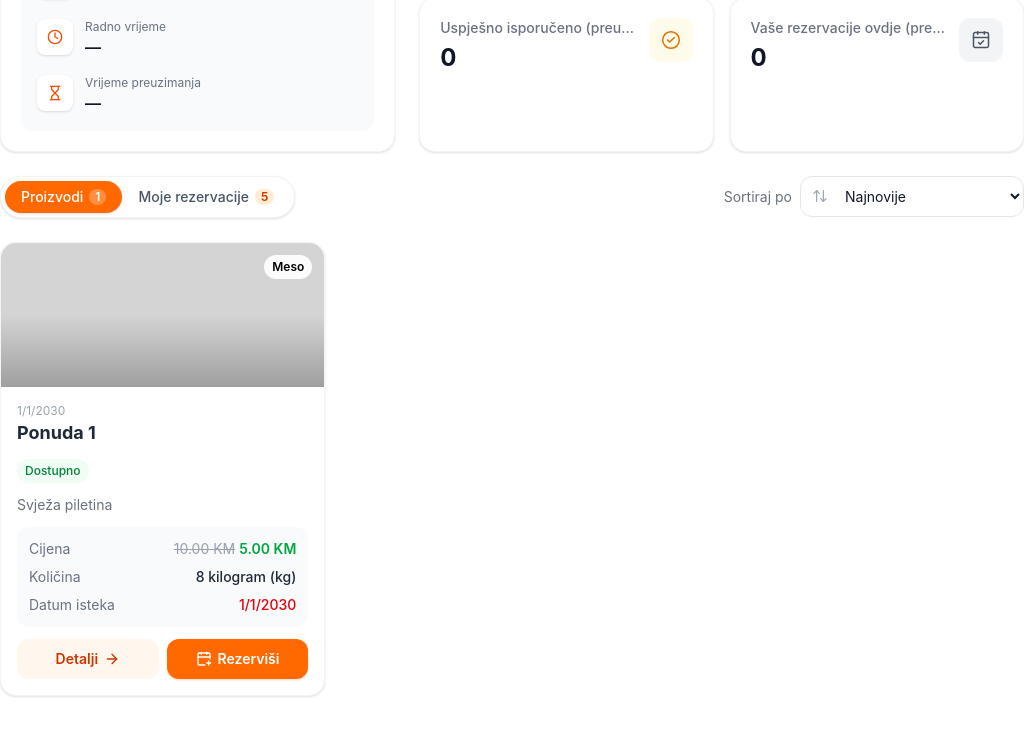
StoreDetailsPage reservations tab count › updates the total after a new reservation
The image size is (1024, 736).
(page scrolled)
Check: the button "Moje rezervacije 5" is shown, box [122, 181, 290, 213]
Click the button "Rezerviši": (238, 659) [167, 639, 308, 679]
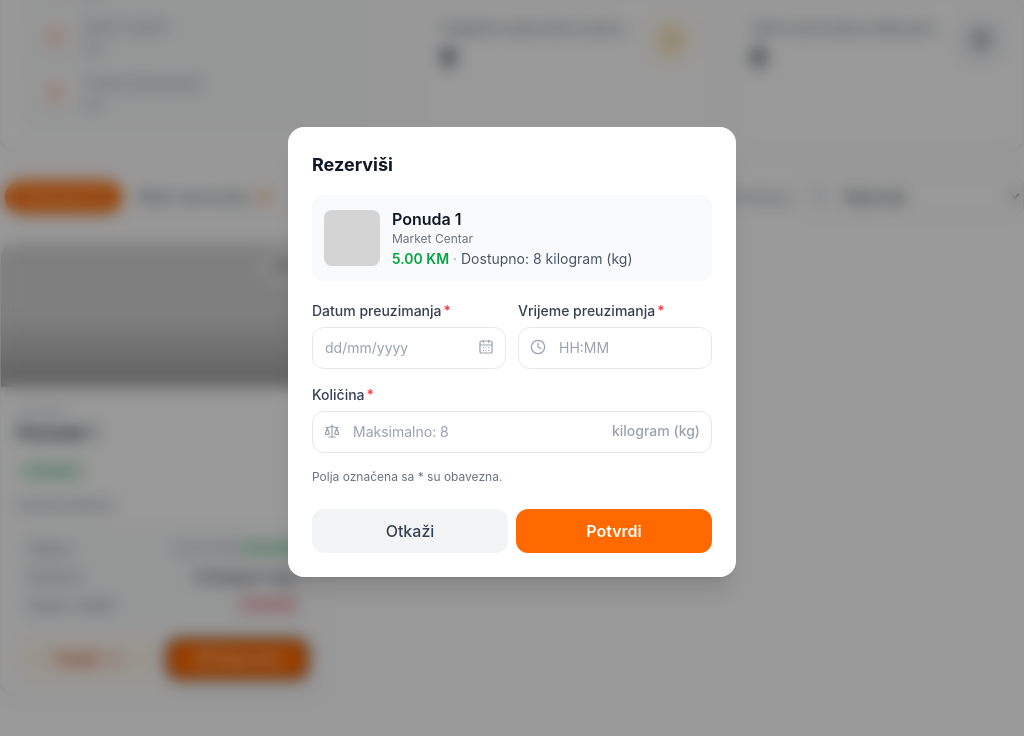
In the field labelled "Datum preuzimanja": (409, 348) [312, 327, 506, 369], type "01/01/2030"
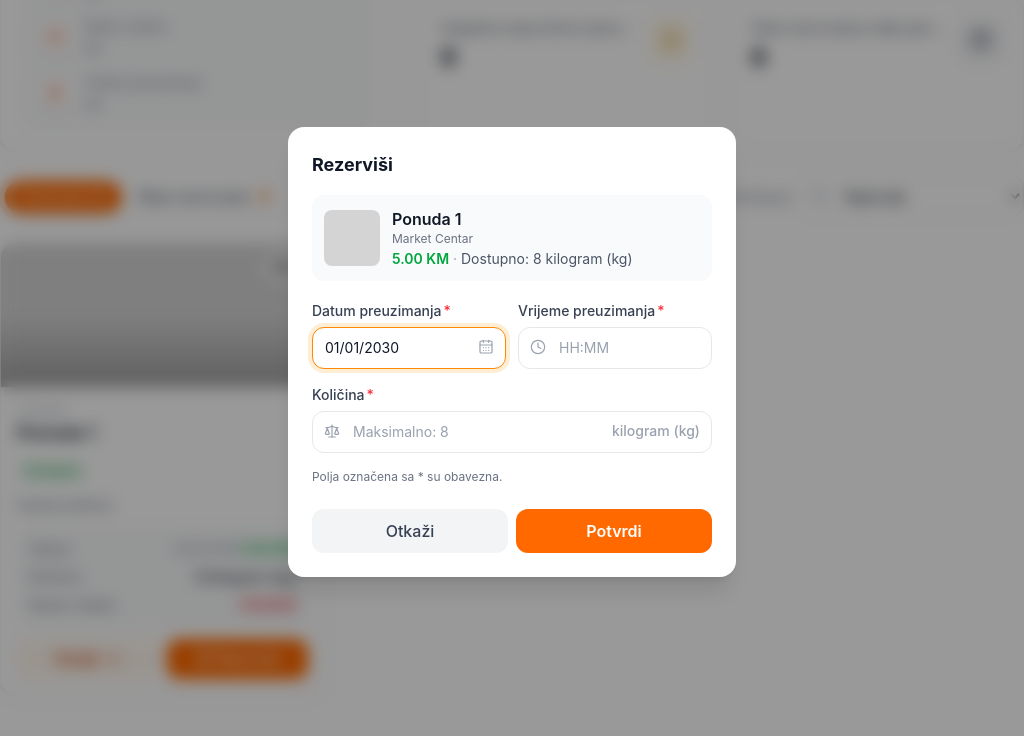
In the field labelled "Vrijeme preuzimanja": (615, 348) [518, 327, 712, 369], type "10:00"
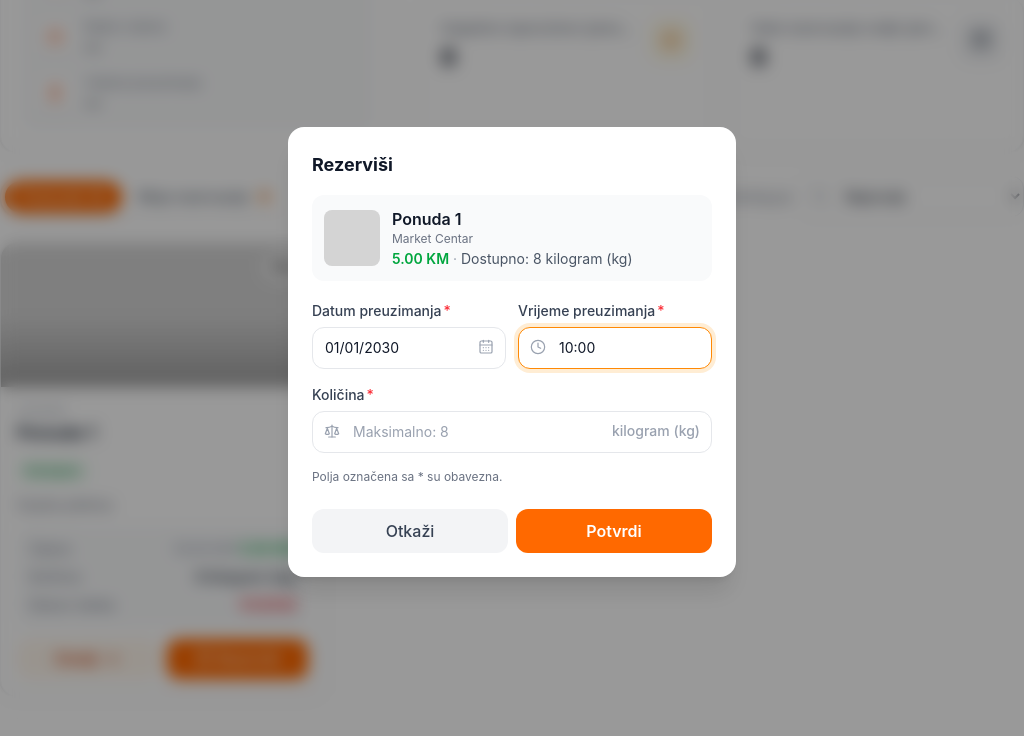
In the number field labelled "Količina": (512, 432) [312, 411, 712, 453], type "3"
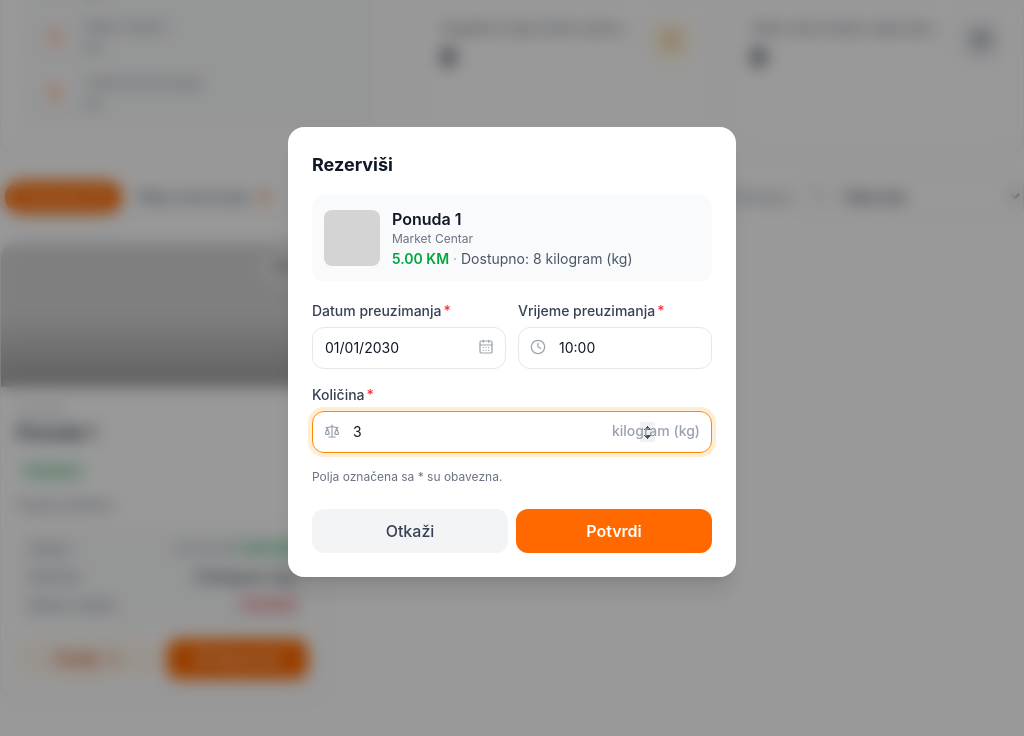
Click the button "Potvrdi": (614, 531) [516, 509, 712, 553]
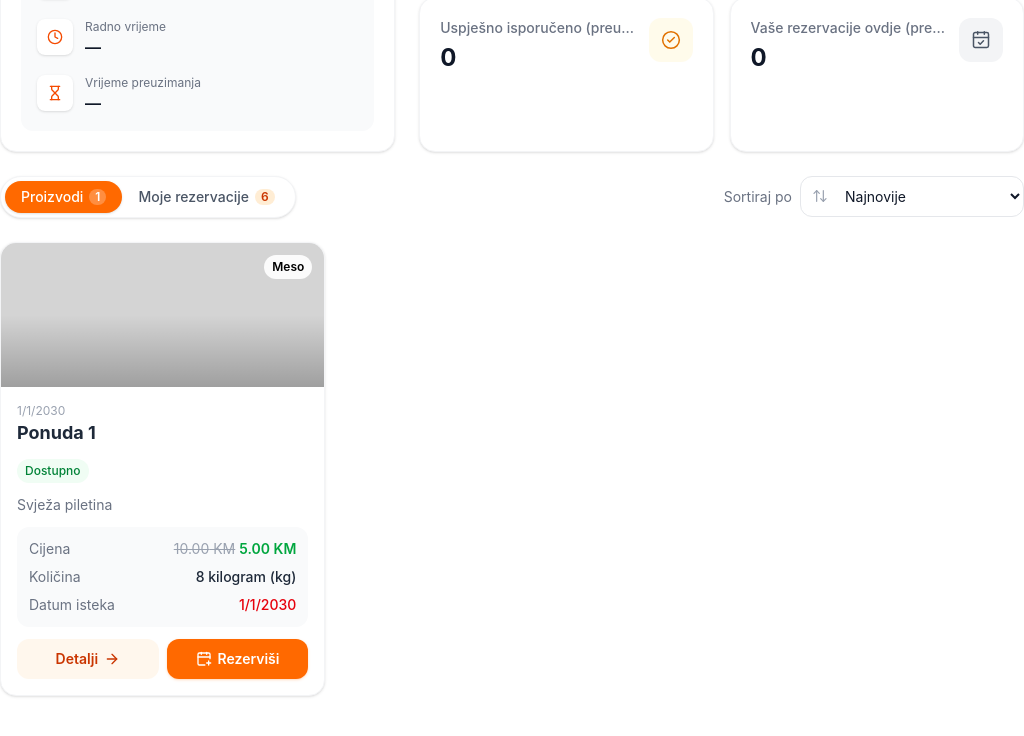
Check: the button "Moje rezervacije 6" is shown, box [122, 181, 291, 213]
